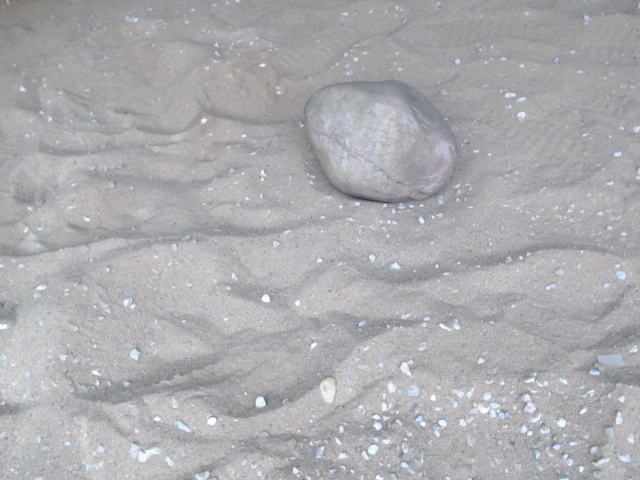rock: (297, 72, 464, 212)
